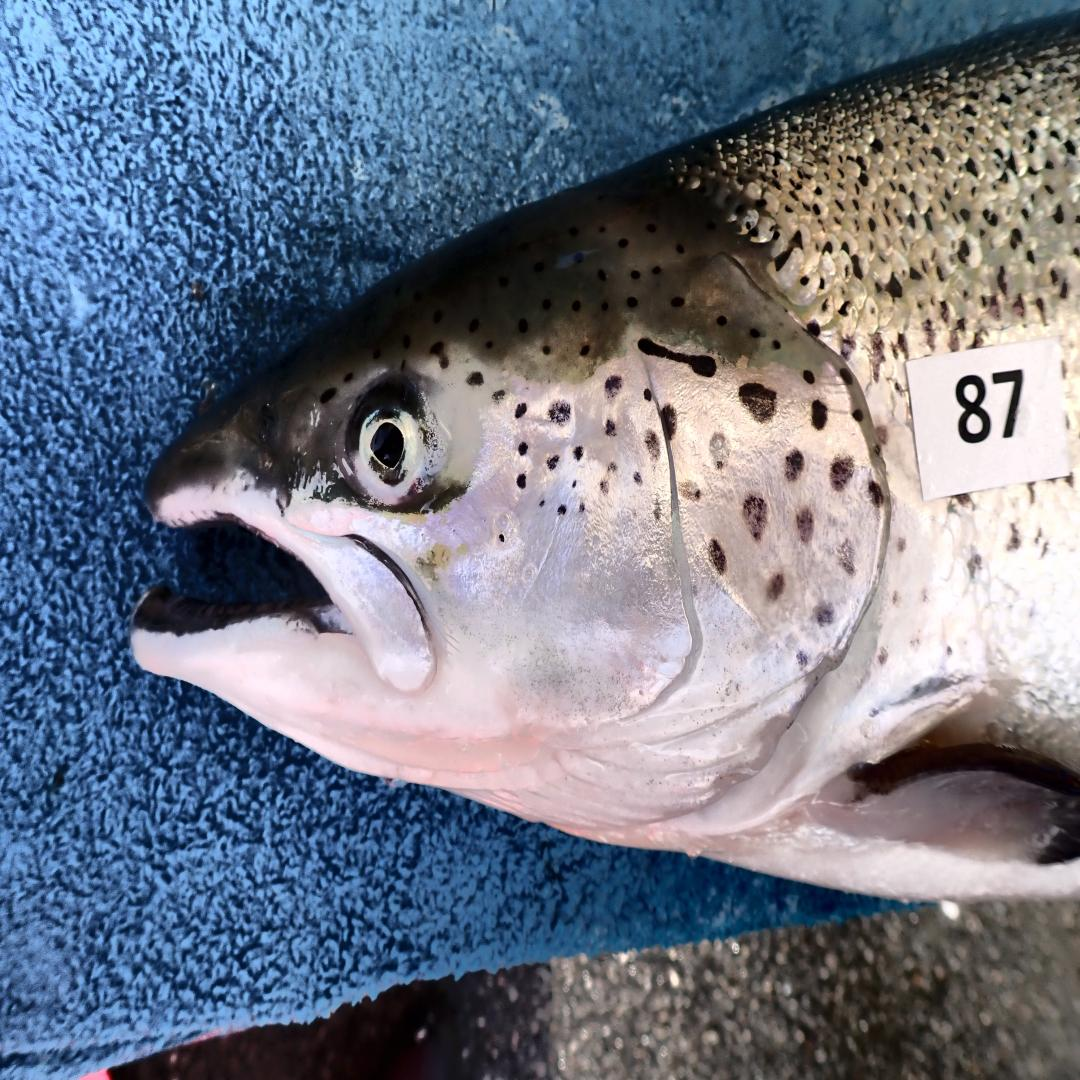spot: (637, 338, 717, 377), (738, 382, 776, 422), (742, 494, 768, 541), (829, 456, 854, 492), (708, 433, 729, 469), (795, 506, 815, 543), (709, 537, 728, 575), (546, 400, 570, 427), (839, 539, 856, 576), (785, 449, 804, 481), (662, 405, 677, 440), (812, 399, 828, 430), (645, 429, 660, 462), (677, 481, 700, 502), (814, 602, 835, 625), (603, 374, 622, 399), (768, 574, 785, 601), (867, 481, 884, 506), (840, 366, 853, 385), (546, 454, 559, 470), (515, 402, 527, 419), (796, 651, 808, 668), (605, 419, 616, 436), (517, 472, 527, 490), (599, 480, 609, 496), (803, 370, 814, 384), (518, 441, 528, 456), (573, 446, 583, 460), (633, 471, 643, 485), (852, 409, 862, 423), (643, 388, 652, 401), (607, 462, 617, 472), (557, 504, 566, 515), (654, 508, 661, 521), (579, 502, 585, 512), (499, 534, 504, 542), (572, 480, 576, 488), (540, 500, 544, 507)
